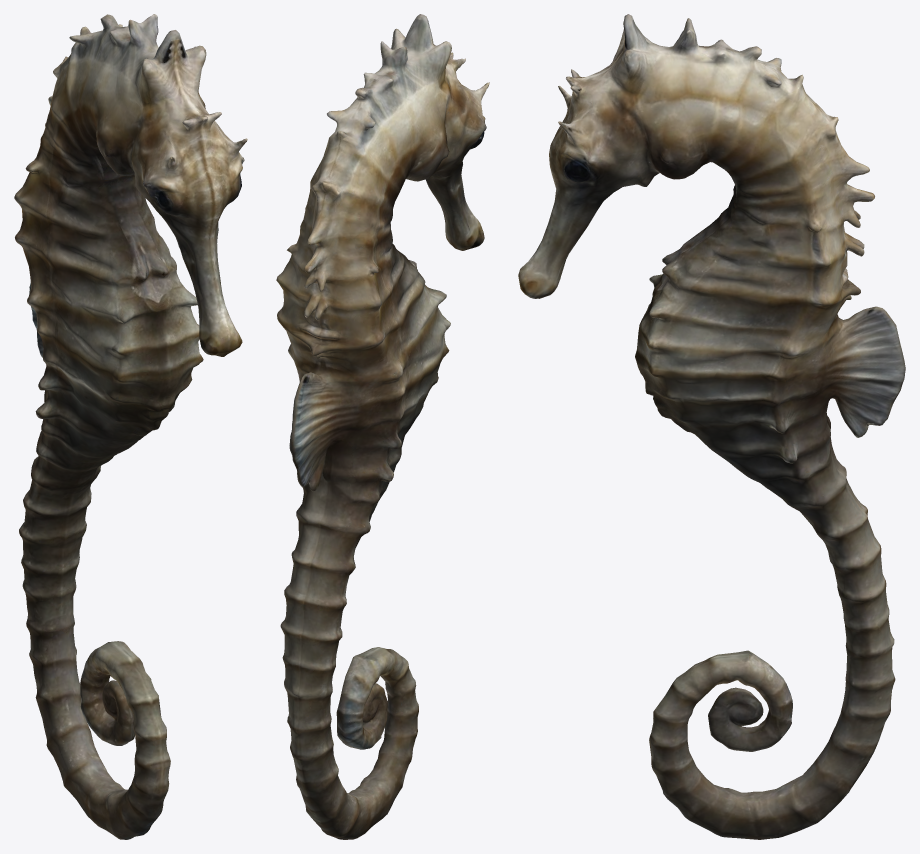
File: giant-sea-horse.glb
3 renders of one model, left to right at view 1: azimuth 30°, elevation 25°; view 2: azimuth 150°, elevation 25°; view 3: azimuth 270°, elevation 25°, orthographic. The views are drawn at different scales.
Bounding box in the file's own units: 0.3053 × 2.01 × 0.8558.
1 material, 1 textured.
